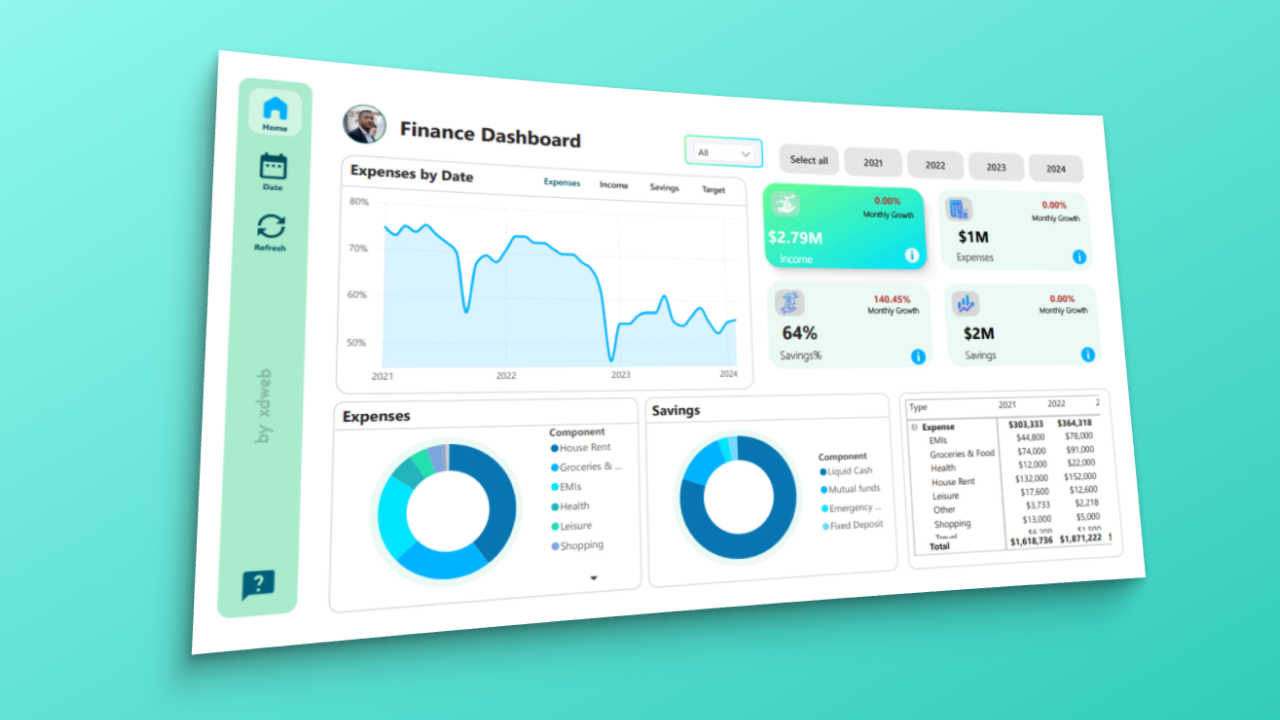

This screenshot's page, from the dashboard's own definition file:
{"tool":"powerbi","page":{"name":"Page 1","canvas":[1280,720],"ordinal":0},"visuals":[{"type":"donutChart","title":"Savings","fields":{"Y":["Dataset.Savings"],"Category":["Dataset.Component"]},"box":[536.2,437.5,360,252.5],"z":0},{"type":"card","fields":{"Values":["Dataset.Expenses"]},"box":[993.8,167.5,113.8,88.8],"z":1000},{"type":"areaChart","fields":{"Y":["Dataset.Line_Chart_Measures"],"Category":["Dataset.Date"]},"box":[146.4,120,547.3,307.3],"z":2000},{"type":"card","fields":{"Values":["Dataset.Savings"]},"box":[993.8,326.2,108.8,71.2],"z":3000},{"type":"card","fields":{"Values":["Dataset.Savings%"]},"box":[711.2,317.5,107.5,80],"z":4000},{"type":"advancedSlicerVisual","fields":{"Values":["Dataset.Year"]},"box":[753.8,31.2,468.8,58.8],"z":5000},{"type":"donutChart","title":"Expenses","fields":{"Category":["Dataset.Component"],"Y":["Dataset.Expenses"]},"box":[145,437.5,382.5,252.5],"z":6000},{"type":"pivotTable","fields":{"Values":["Dataset.Total_Values"],"Rows":["Dataset.Type","Dataset.Component"],"Columns":["Dataset.Year"]},"box":[913.8,437.5,343.8,252.5],"z":7000},{"type":"card","fields":{"Values":["Dataset.Income"]},"box":[716.4,180.9,97.3,74.5],"z":8000},{"type":"textbox","box":[210.9,55.5,300,46.4],"z":9000},{"type":"slicer","fields":{"Values":["Selected_Date.Month-yr"]},"box":[595.5,55.5,128.2,46.4],"z":10000},{"type":"advancedSlicerVisual","fields":{"Values":["Line_Selection_Table.Type"]},"box":[390.9,122.7,290,37.3],"z":11000},{"type":"card","fields":{"Values":["Dataset.Ex_ws_Sav"]},"box":[573.3,155,150,81.7],"z":12000},{"type":"card","fields":{"Values":["Dataset.Income_Monthly_Gr"]},"box":[882.9,135,61.8,26.4],"z":13000,"group":"g1"},{"type":"card","fields":{"Values":["Dataset.Savings_Monthly_Gr"]},"box":[1161.1,135.5,61.8,26.4],"z":13000,"group":"g3"},{"type":"card","fields":{"Values":["Dataset.Expenses_Monthly_Gr"]},"box":[1153.8,283.9,74.6,23.8],"z":13000,"group":"g4"},{"type":"card","fields":{"Values":["Dataset.Ex_ws_Sav"]},"box":[859.5,286.1,105,28.8],"z":13000,"group":"g2"},{"type":"group","id":"g1","title":"Group 1","box":[861.8,135,103.6,45.9],"z":14000},{"type":"group","id":"g2","title":"Group 1","box":[859.5,286.1,105.9,41.7],"z":15000},{"type":"textbox","box":[861.8,153.6,103.6,27.3],"z":15001,"group":"g1"},{"type":"textbox","box":[1140,154.1,103.6,27.3],"z":15001,"group":"g3"},{"type":"textbox","box":[861.8,300.5,103.6,27.3],"z":15001,"group":"g2"},{"type":"textbox","box":[1140,300.5,103.6,27.3],"z":15001,"group":"g4"},{"type":"group","id":"g3","title":"Group 1","box":[1140,135.5,103.6,45.5],"z":16000},{"type":"group","id":"g4","title":"Group 1","box":[1140,283.9,103.6,43.8],"z":17000}]}

Visuals, with their boxes in screenshot pixels (x1, y1, x2, y2), scaled from the page's 1280x720 canvas onto the 1280x720 screenshot:
"Savings" donutChart: 536:438:896:690
card - Dataset.Expenses: 994:168:1108:256
areaChart - Dataset.Line_Chart_Measures x Dataset.Date: 146:120:694:427
card - Dataset.Savings: 994:326:1103:397
card - Dataset.Savings%: 711:318:819:398
advancedSlicerVisual - Dataset.Year: 754:31:1223:90
"Expenses" donutChart: 145:438:528:690
pivotTable - Dataset.Total_Values x Dataset.Type: 914:438:1258:690
card - Dataset.Income: 716:181:814:255
textbox: 211:56:511:102
slicer - Selected_Date.Month-yr: 596:56:724:102
advancedSlicerVisual - Line_Selection_Table.Type: 391:123:681:160
card - Dataset.Ex_ws_Sav: 573:155:723:237
card - Dataset.Income_Monthly_Gr: 883:135:945:161
card - Dataset.Savings_Monthly_Gr: 1161:136:1223:162
card - Dataset.Expenses_Monthly_Gr: 1154:284:1228:308
card - Dataset.Ex_ws_Sav: 860:286:964:315
"Group 1" group: 862:135:965:181
"Group 1" group: 860:286:965:328
textbox: 862:154:965:181
textbox: 1140:154:1244:181
textbox: 862:300:965:328
textbox: 1140:300:1244:328
"Group 1" group: 1140:136:1244:181
"Group 1" group: 1140:284:1244:328
